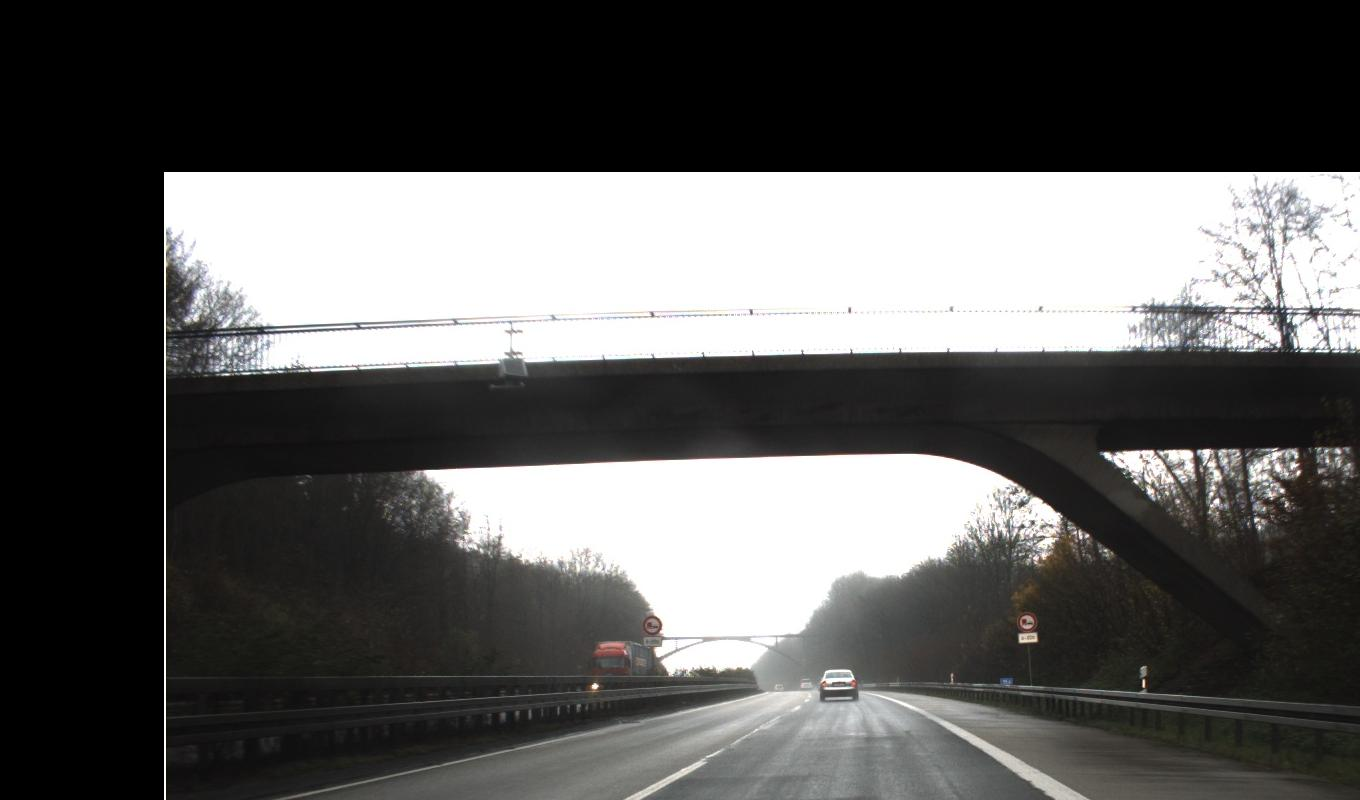no overtaking (trucks): (641, 610, 1038, 636)
